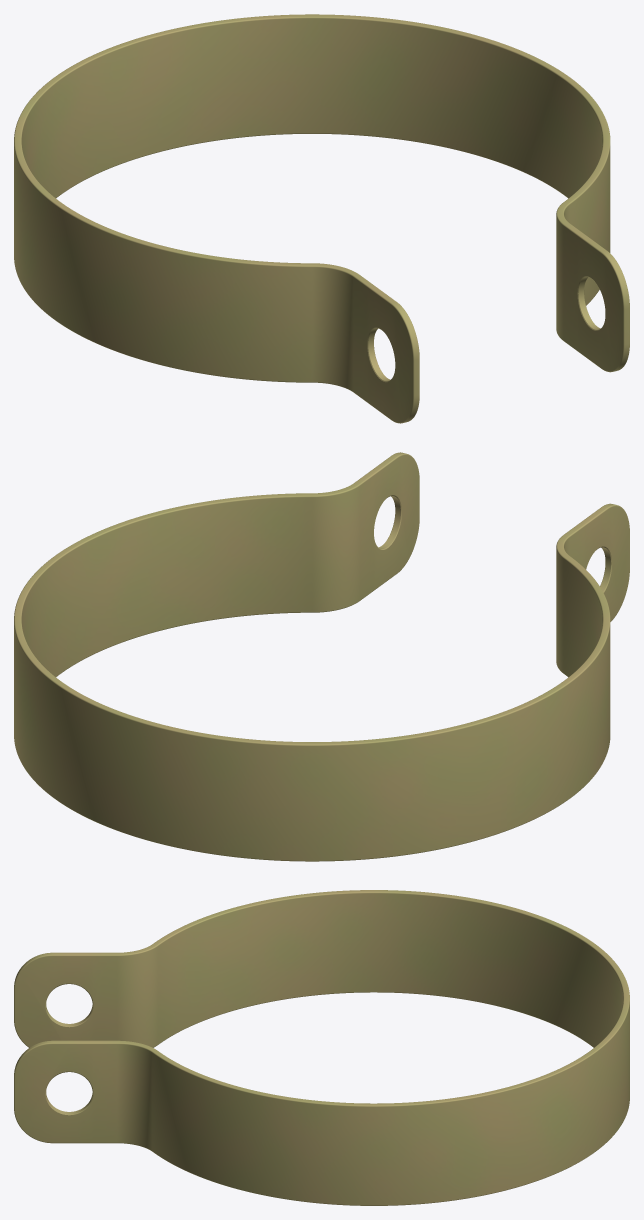
Rendered from engine-intake-clamp-band-inspection.glb.
3 views of the same model, one above another, from view 1: azimuth 30°, elevation 25°; view 2: azimuth 150°, elevation 25°; view 3: azimuth 270°, elevation 25° (orthographic). The views are drawn at different scales.
Parts seen in each view (by area): view 1: DP101198 related smooth band and formed ears - isolated; view 2: DP101198 related smooth band and formed ears - isolated; view 3: DP101198 related smooth band and formed ears - isolated.
Boxes of the visible parts, left/top/right/bottom form: DP101198 related smooth band and formed ears - isolated: left=14, top=14, right=629, bottom=423; DP101198 related smooth band and formed ears - isolated: left=14, top=452, right=629, bottom=861; DP101198 related smooth band and formed ears - isolated: left=14, top=890, right=629, bottom=1205.
Size of the model in its own units: 0.0462 by 0.01 by 0.0556.
1 material, 1 textured.
